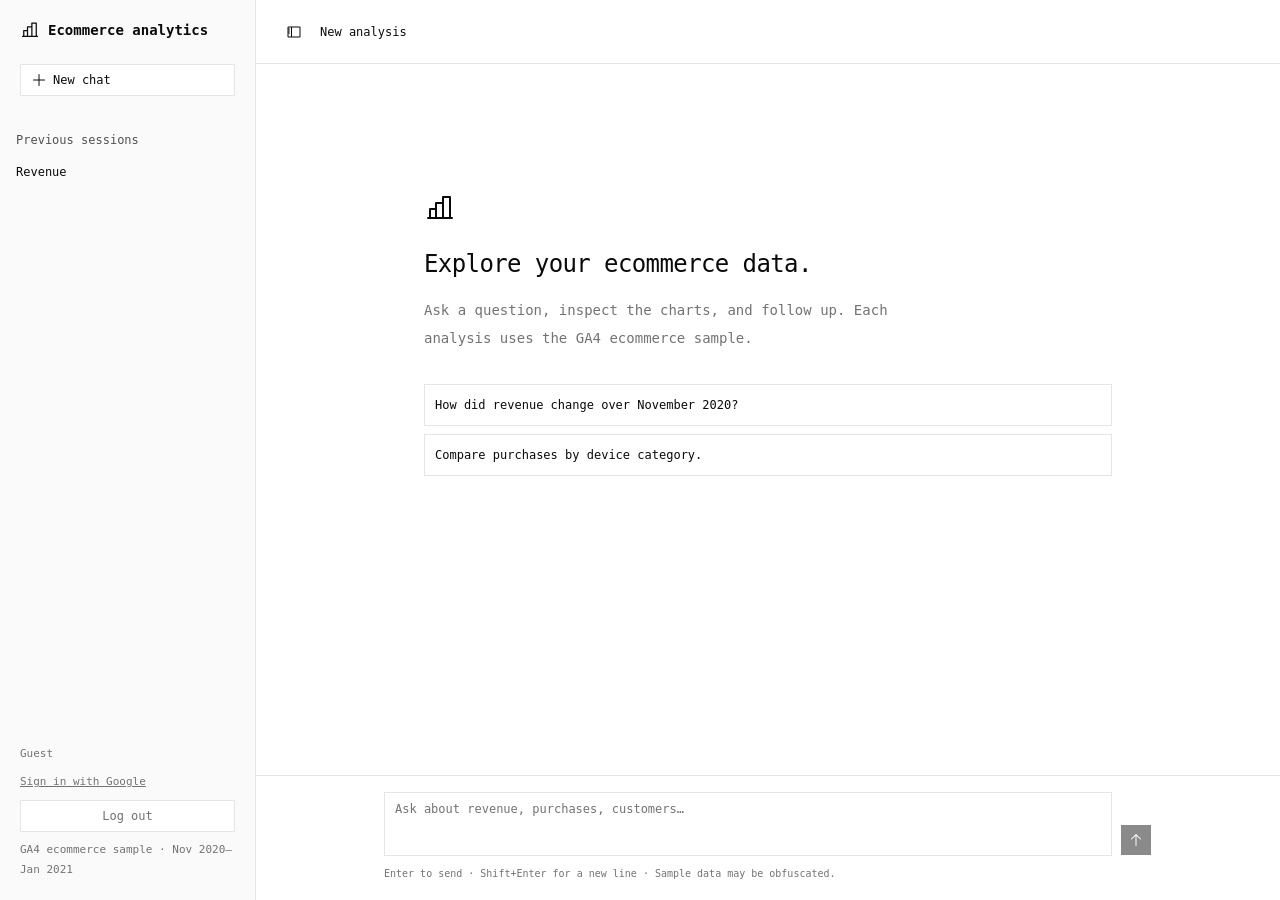
Test: retains published output after a disconnected stream and failed history reload
In the text box: x=748, y=824 [384,792,1112,856], type "Purchases"
Then press Enter
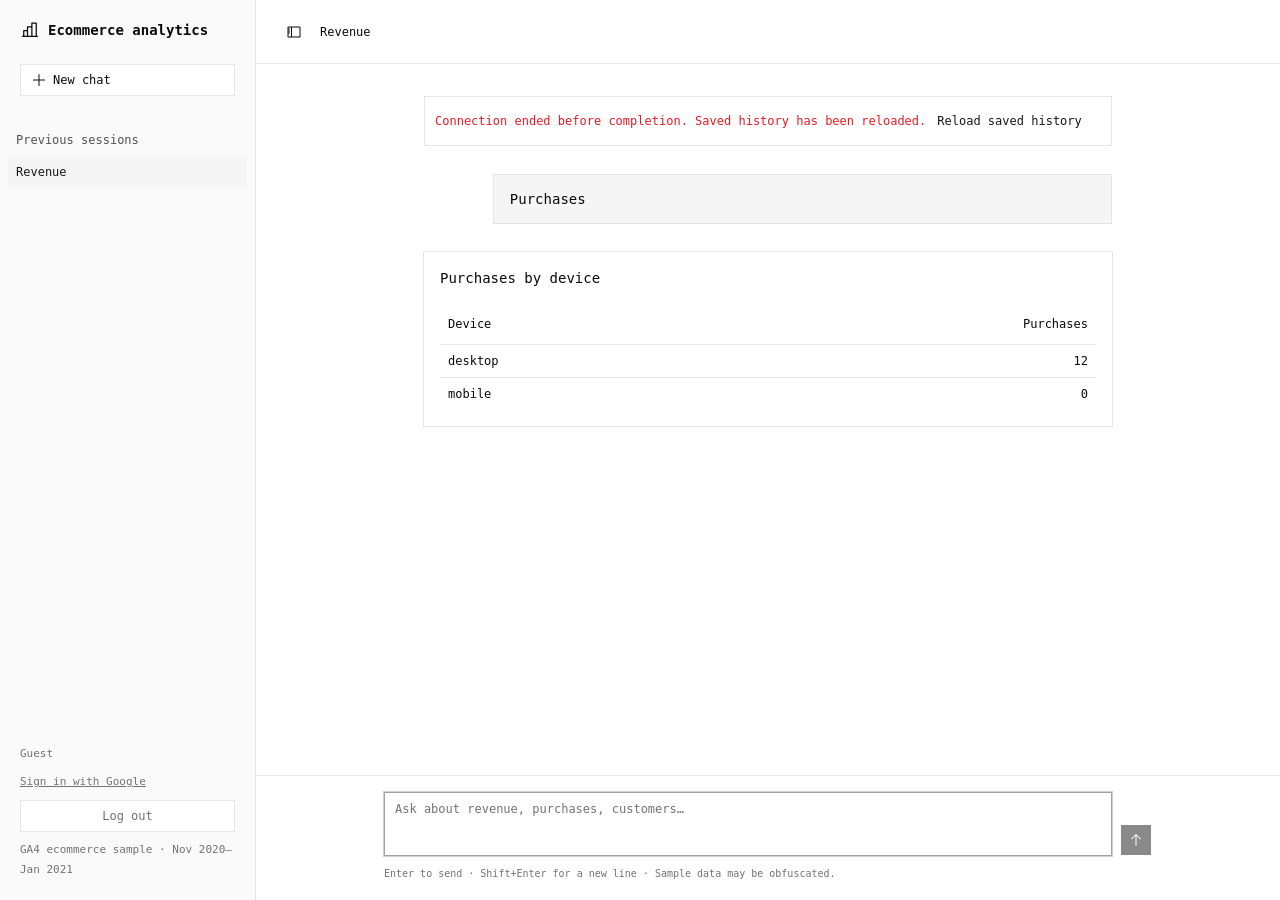
Check: the text "Connection ended before completion" is shown, box [435,114,926,128]
Check: the number of elements with test id "chart-table" is 1, box [424,252,1112,426]
